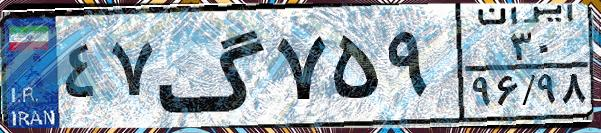0: (537, 27, 568, 80)
3: (508, 27, 537, 80)
4: (57, 26, 110, 100)
5: (330, 28, 385, 110)
6: (495, 70, 520, 125)
7: (270, 28, 330, 110), (110, 28, 156, 98)
8: (560, 70, 590, 125)
9: (385, 28, 445, 110), (470, 70, 495, 125), (535, 70, 560, 125)
گ: (156, 12, 270, 120)
